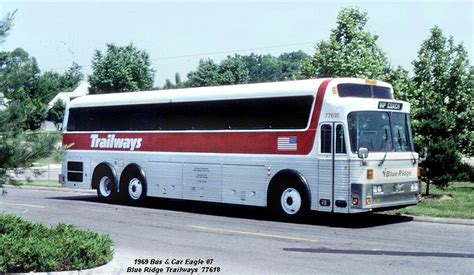bus: (63, 78, 420, 211)
